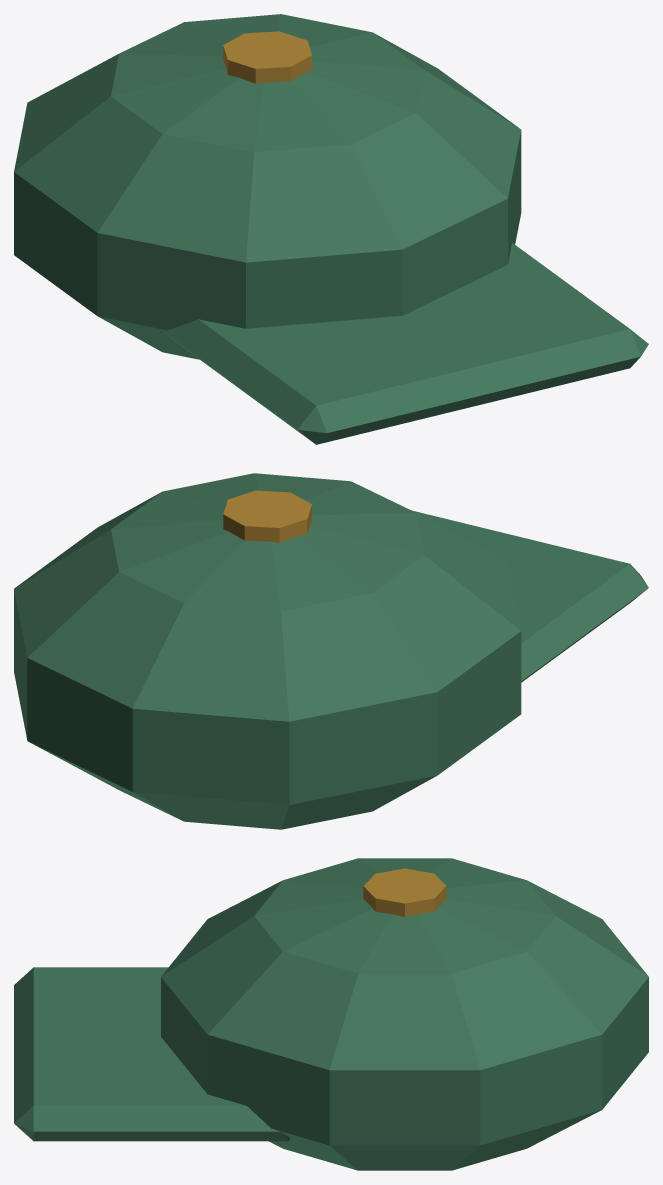
File: cap.glb
The picture shows the model from 3 angles, top to bottom: view 1: azimuth 30°, elevation 25°; view 2: azimuth 150°, elevation 25°; view 3: azimuth 270°, elevation 25°; orthographic projection. The views are drawn at different scales.
Visible parts, largest first — view 1: Crown_mesh; view 2: Crown_mesh; view 3: Crown_mesh.
Part boxes in pixels (x1,y1,x2,y2): Crown_mesh: (14, 14, 648, 444); Crown_mesh: (14, 473, 648, 829); Crown_mesh: (14, 858, 648, 1170).
Size of the model in its own units: 0.1809 by 0.113 by 0.2599.
